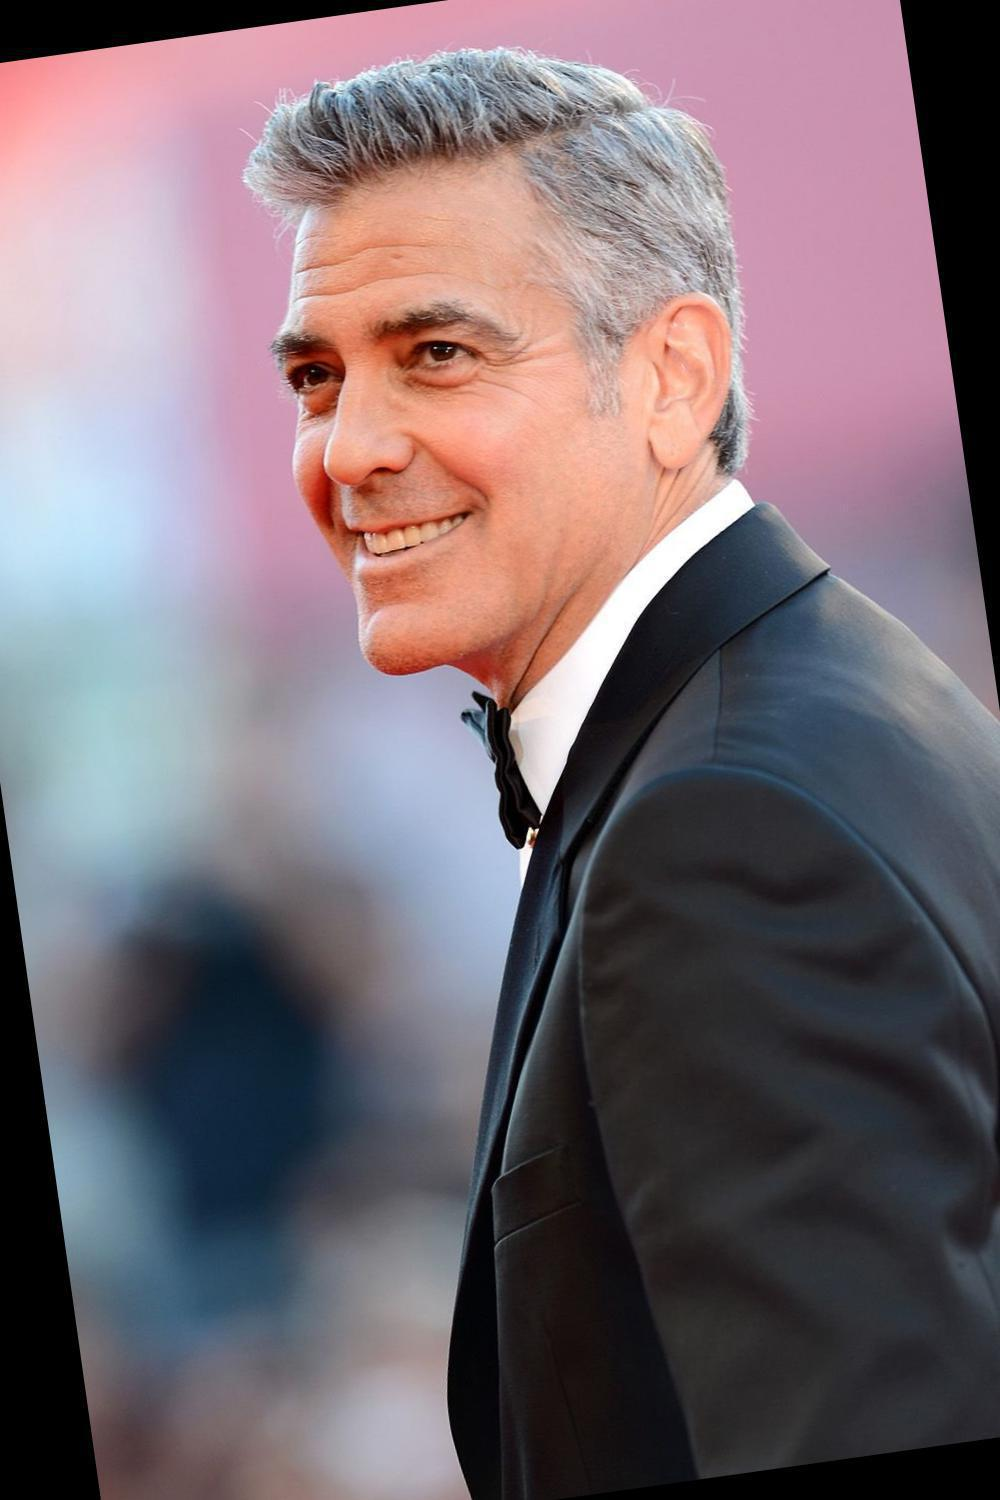Sober: (265, 201, 614, 629)
